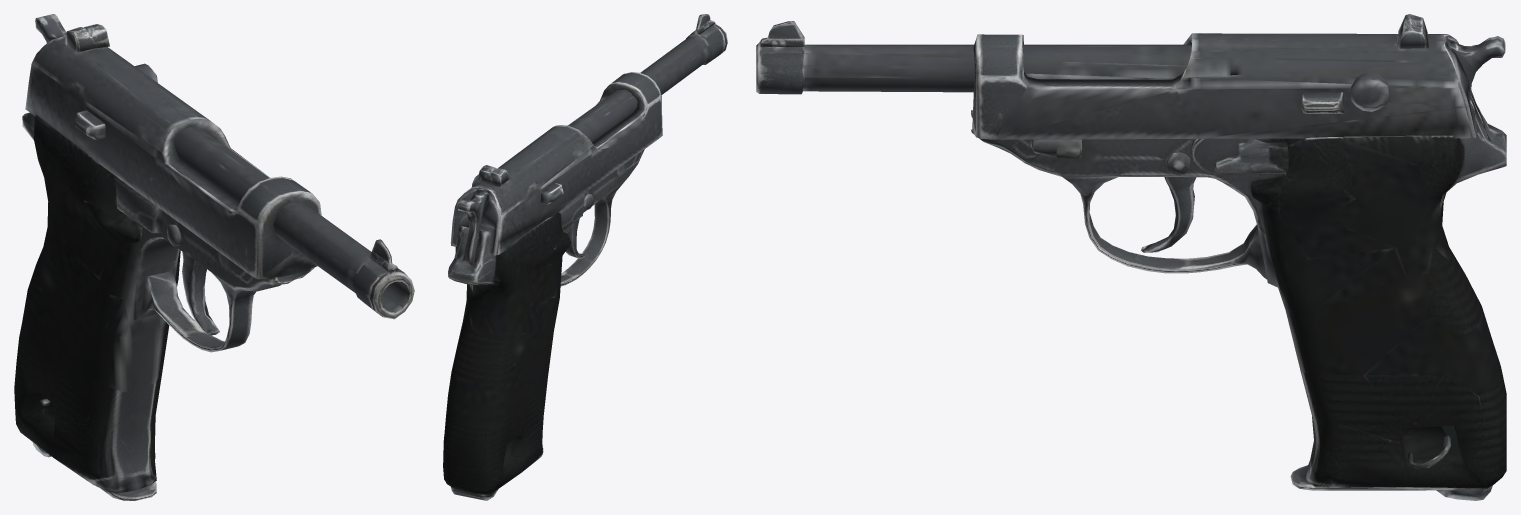
The picture shows the model from 3 angles, left to right: view 1: azimuth 30°, elevation 25°; view 2: azimuth 150°, elevation 25°; view 3: azimuth 270°, elevation 25°; orthographic projection. The views are drawn at different scales.
Parts seen in each view (by area): view 1: p38; view 2: p38; view 3: p38.
Boxes of the visible parts, bbox=[...] form: p38: bbox=[14, 14, 414, 500]; p38: bbox=[443, 14, 727, 500]; p38: bbox=[756, 14, 1506, 500].
Size of the model in its own units: 3.77 by 14.85 by 21.6.
Materials: 1 (1 with a texture image).
